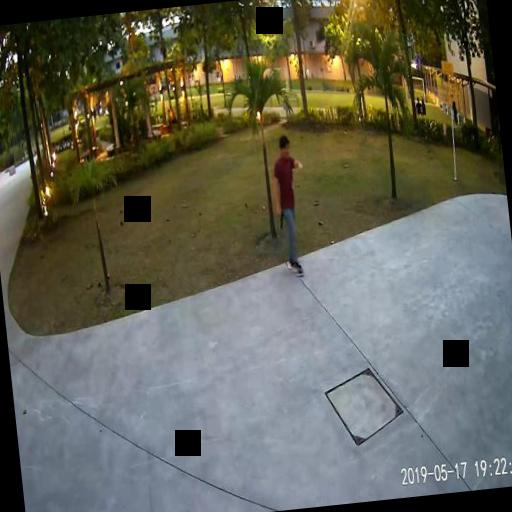Handgun: (275, 207, 284, 228)
